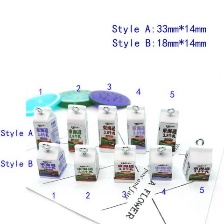carton: (120, 97, 147, 154), (30, 104, 63, 150), (63, 100, 91, 153), (33, 141, 69, 181), (155, 103, 182, 154), (182, 142, 214, 185), (145, 143, 177, 185), (96, 102, 120, 154), (110, 140, 138, 184), (73, 142, 101, 182)
